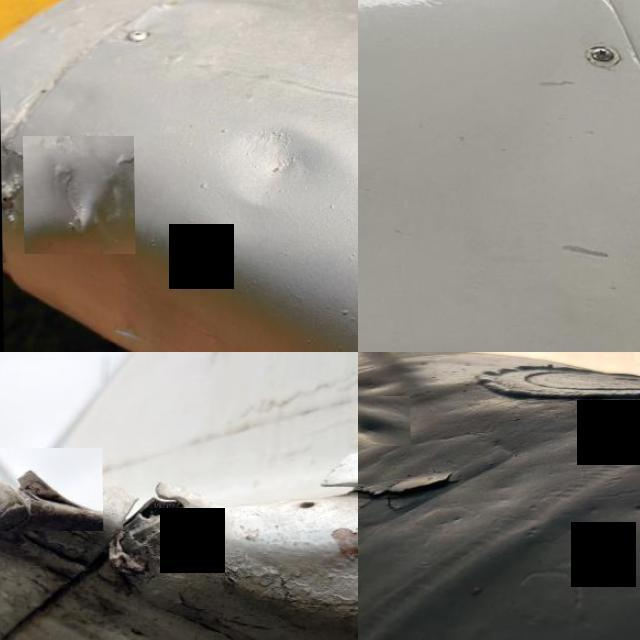Crack: (106, 458, 210, 552), (0, 448, 102, 530), (358, 457, 465, 529)
Dent: (200, 94, 352, 240), (22, 136, 134, 254), (358, 396, 409, 445)
